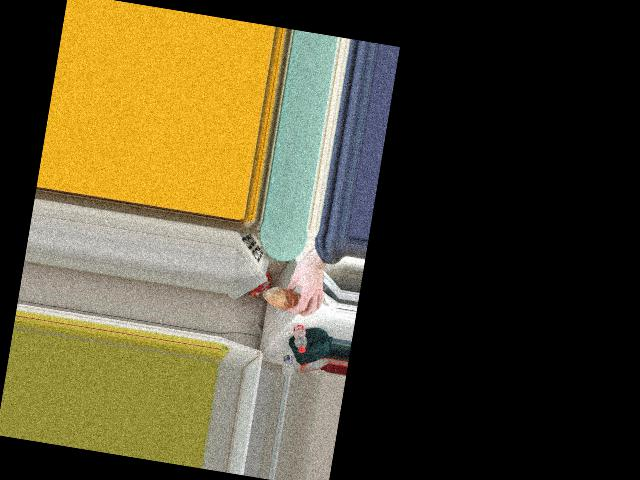sweet_potato: (272, 282, 308, 311)
